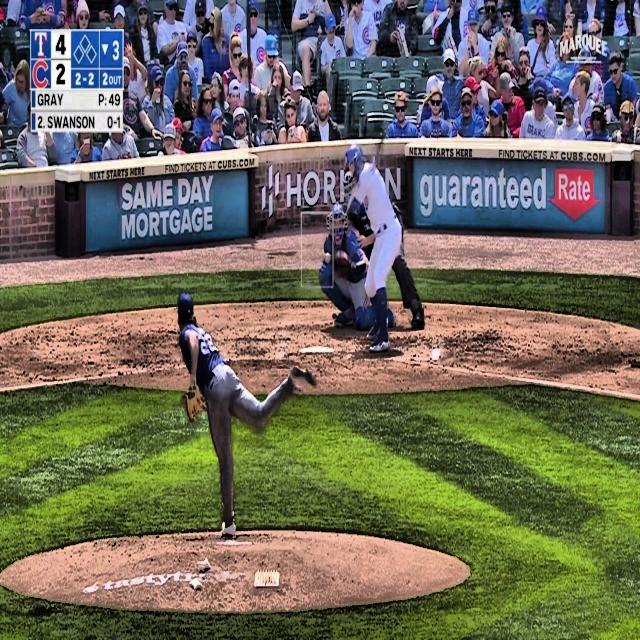baseball: (324, 252, 331, 264)
